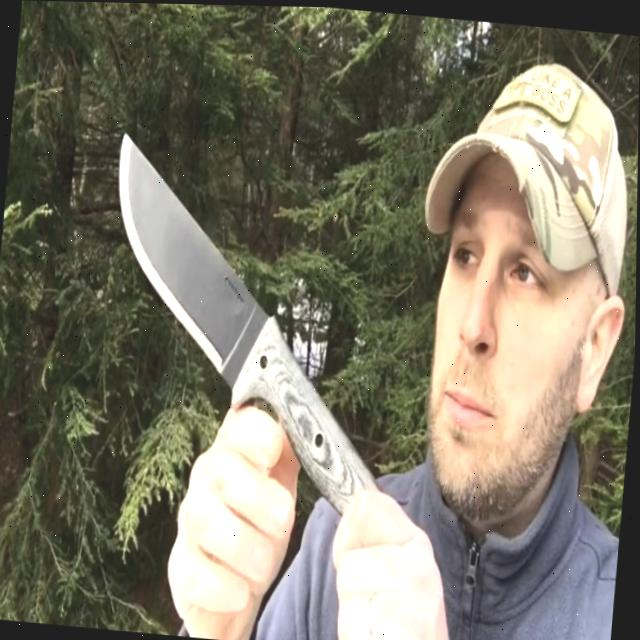pocket-knife: (89, 125, 339, 470)
